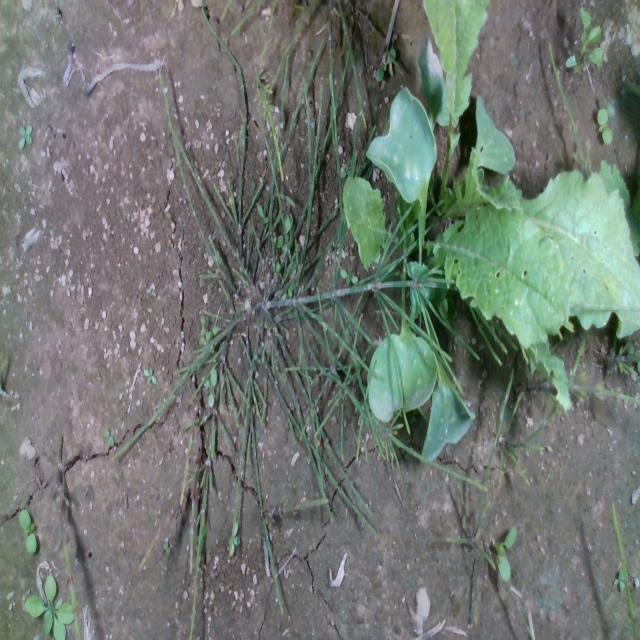weed: (18, 508, 36, 554), (142, 364, 158, 386), (103, 426, 114, 446)
